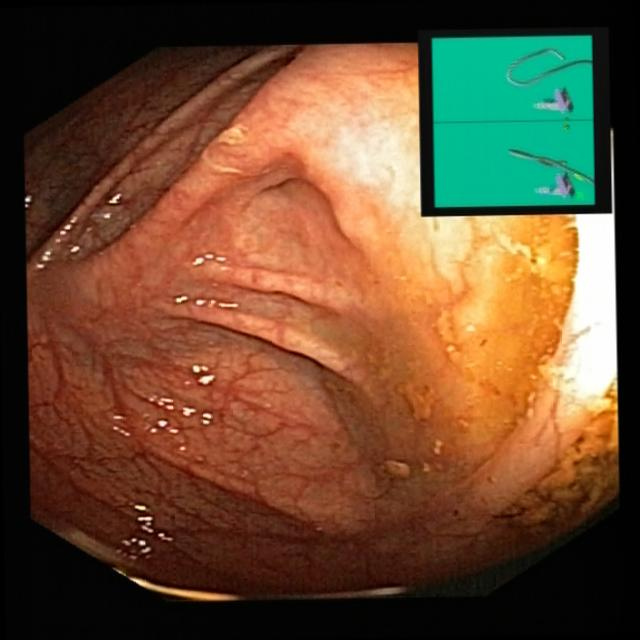normal-cecum: (387, 203, 622, 560)
